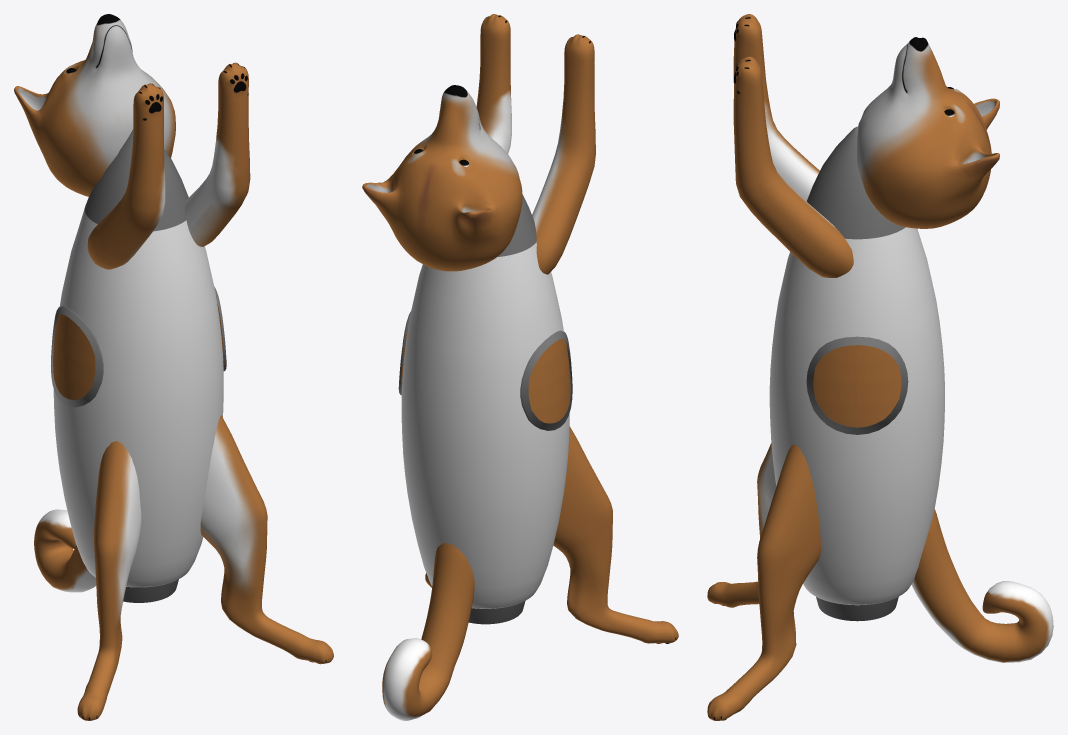
File: Shib Ship.obj
3 renders of one model, left to right at view 1: azimuth 30°, elevation 25°; view 2: azimuth 150°, elevation 25°; view 3: azimuth 270°, elevation 25°, orthographic. The views are drawn at different scales.
Parts seen in each view (by area): view 1: Spaceship_Body_Circle, Hind_Legs_Plane.005, Forelegs_Cylinder.010, Doggy_Head_Plane.003, Tail_Plane.007, Window_Cylinder.023, Window_Frame_Cylinder.021, Rocket_Nozzle_Circle.001; view 2: Spaceship_Body_Circle, Doggy_Head_Plane.003, Forelegs_Cylinder.010, Hind_Legs_Plane.005, Tail_Plane.007, Window_Cylinder.023, Window_Frame_Cylinder.021, Rocket_Nozzle_Circle.001; view 3: Spaceship_Body_Circle, Doggy_Head_Plane.003, Forelegs_Cylinder.010, Hind_Legs_Plane.005, Tail_Plane.007, Window_Cylinder.023, Window_Frame_Cylinder.021, Rocket_Nozzle_Circle.001.
Boxes of the visible parts, bbox=[...] form: Spaceship_Body_Circle: bbox=[53, 129, 223, 587]; Hind_Legs_Plane.005: bbox=[77, 415, 333, 720]; Forelegs_Cylinder.010: bbox=[87, 62, 250, 269]; Doggy_Head_Plane.003: bbox=[14, 14, 175, 196]; Tail_Plane.007: bbox=[34, 509, 96, 592]; Window_Cylinder.023: bbox=[53, 296, 224, 399]; Window_Frame_Cylinder.021: bbox=[51, 286, 226, 407]; Rocket_Nozzle_Circle.001: bbox=[123, 579, 178, 602]; Spaceship_Body_Circle: bbox=[401, 194, 569, 608]; Doggy_Head_Plane.003: bbox=[362, 85, 522, 271]; Forelegs_Cylinder.010: bbox=[476, 14, 595, 274]; Hind_Legs_Plane.005: bbox=[425, 426, 678, 643]; Tail_Plane.007: bbox=[382, 543, 474, 720]; Window_Cylinder.023: bbox=[401, 329, 570, 423]; Window_Frame_Cylinder.021: bbox=[398, 311, 572, 430]; Rocket_Nozzle_Circle.001: bbox=[468, 601, 525, 624]; Spaceship_Body_Circle: bbox=[769, 126, 944, 605]; Doggy_Head_Plane.003: bbox=[857, 37, 999, 228]; Forelegs_Cylinder.010: bbox=[733, 14, 853, 277]; Hind_Legs_Plane.005: bbox=[707, 443, 821, 720]; Tail_Plane.007: bbox=[911, 509, 1053, 662]; Window_Cylinder.023: bbox=[813, 345, 901, 427]; Window_Frame_Cylinder.021: bbox=[806, 336, 908, 434]; Rocket_Nozzle_Circle.001: bbox=[816, 596, 898, 621].
Bounding box in the file's own units: 3.45 × 7.91 × 3.98.
6 materials, 6 textured.
